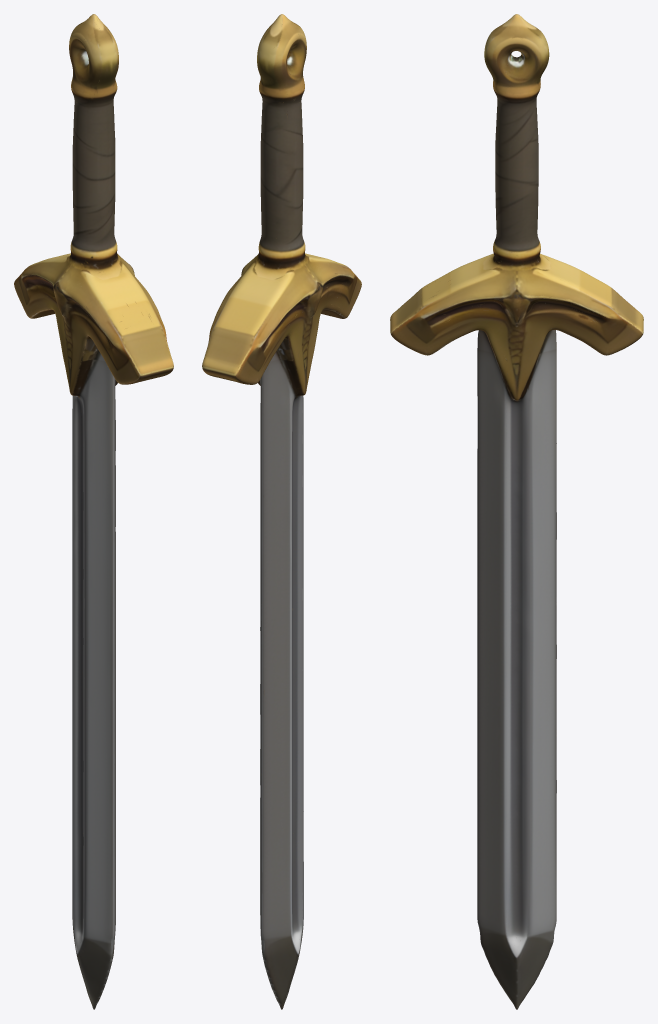
The model's file is Sword 04.fbx.
3 views of the same model, side by side, from view 1: azimuth 30°, elevation 25°; view 2: azimuth 150°, elevation 25°; view 3: azimuth 270°, elevation 25° (orthographic).
Parts seen in each view (by area): view 1: Sword 04; view 2: Sword 04; view 3: Sword 04.
Part boxes in pixels (x1,y1,x2,y2): Sword 04: (14, 14, 173, 1009); Sword 04: (202, 14, 361, 1009); Sword 04: (390, 14, 643, 1009).
Size of the model in its own units: 15.42 by 188 by 43.52.
1 material, 1 textured.
